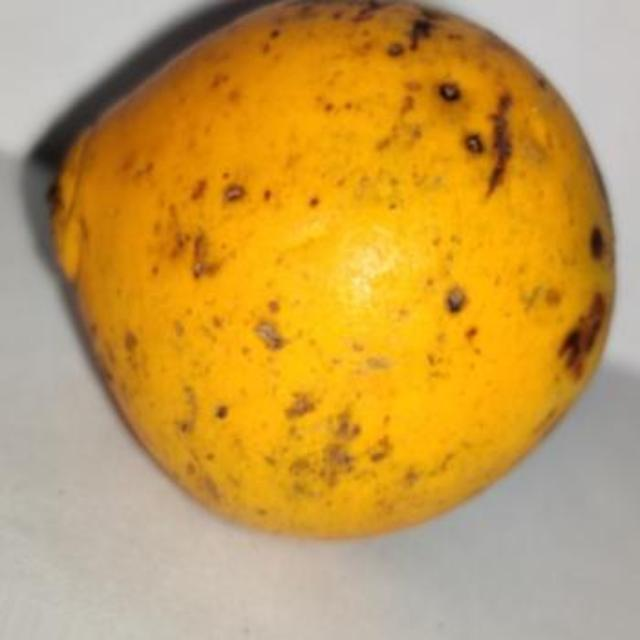good: (33, 0, 618, 545)
